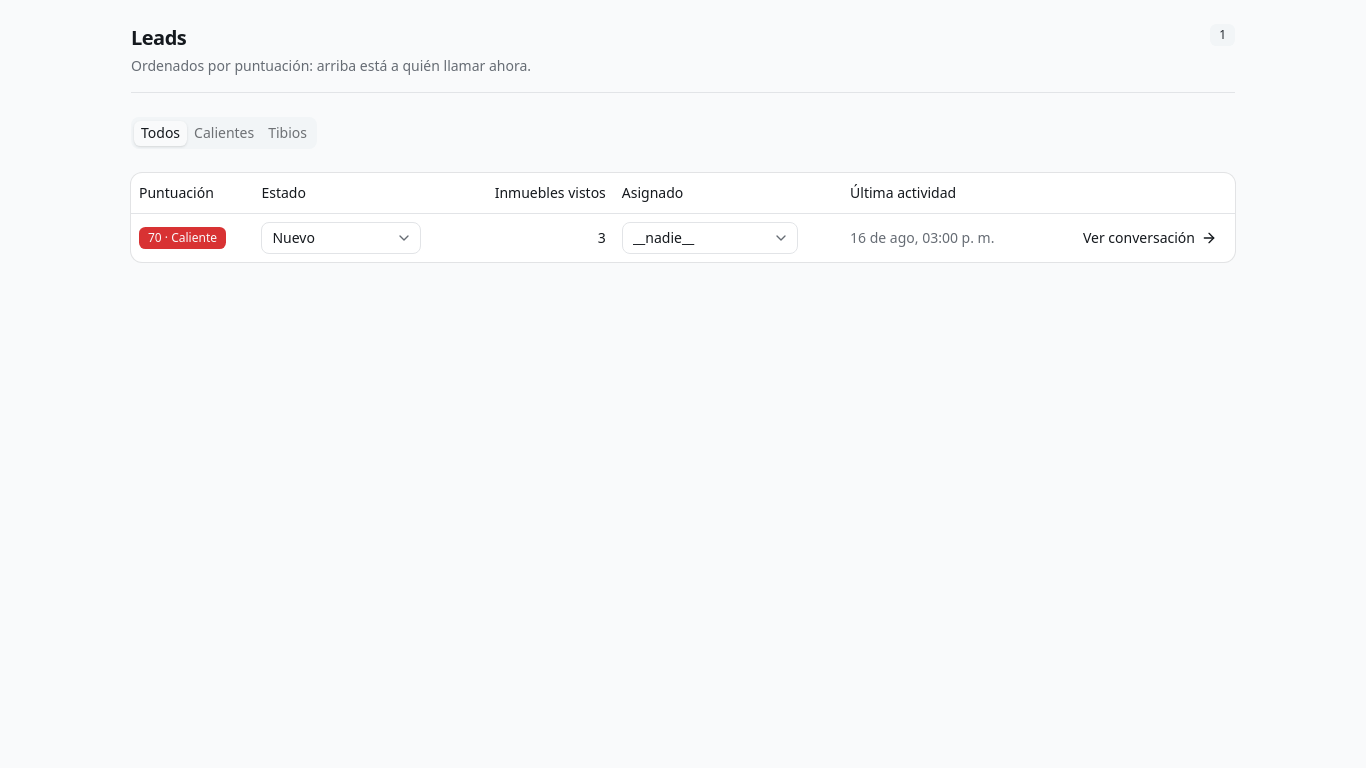
Bandeja de leads › marcar como perdido pide confirmación antes de tocar nada
The image size is (1366, 768).
Click the dropdown named "Estado del lead" at (341, 238), box [261,222,421,254]
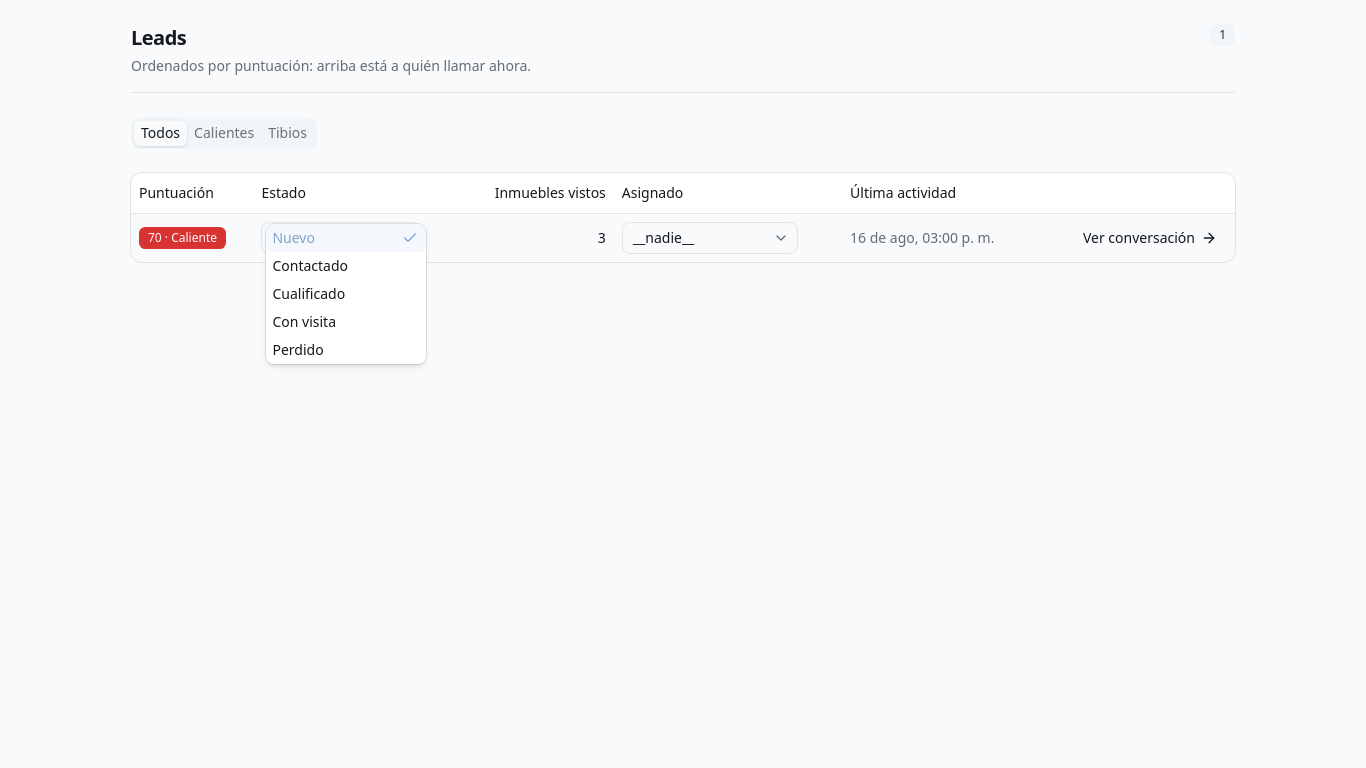
Click the option "Perdido" at (298, 349), box [272,340,324,358]
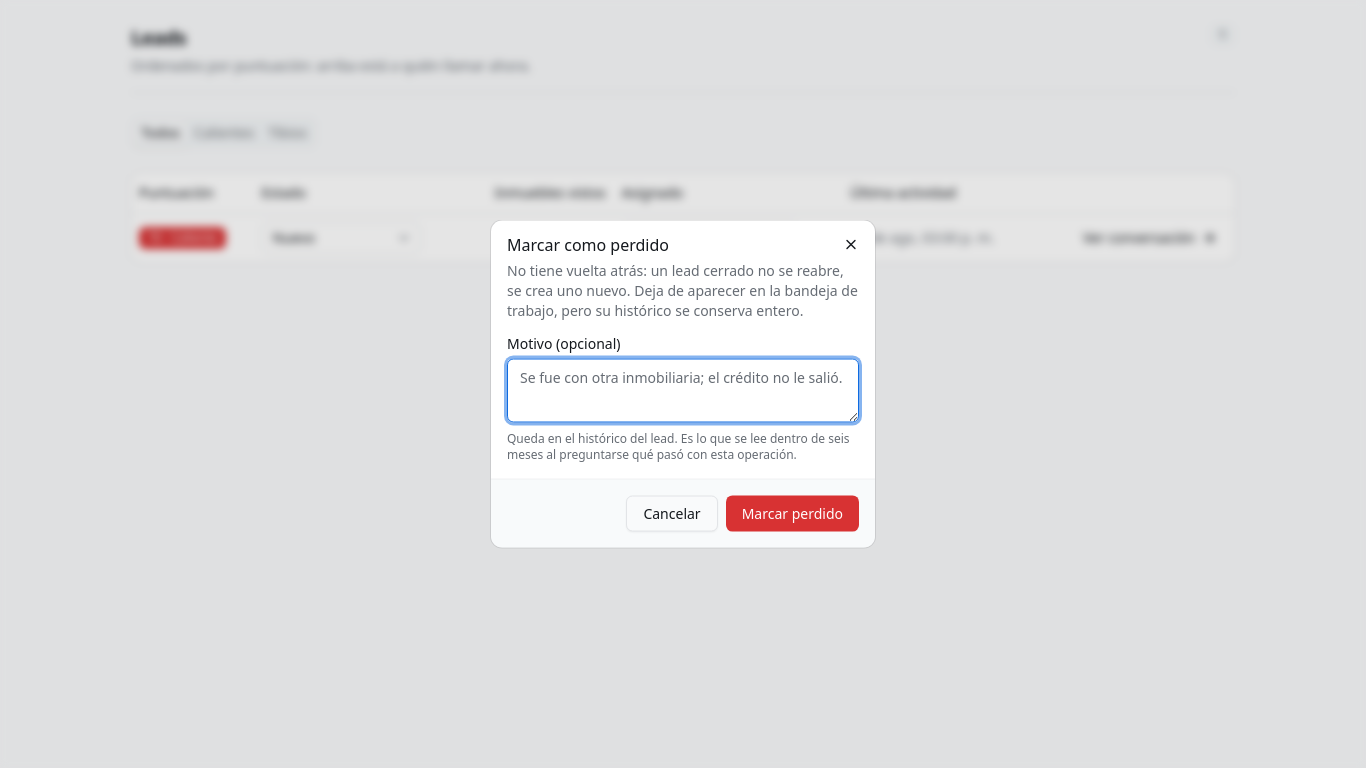
Expected: the text "No tiene vuelta atrás" is shown, [507,260,858,320]
